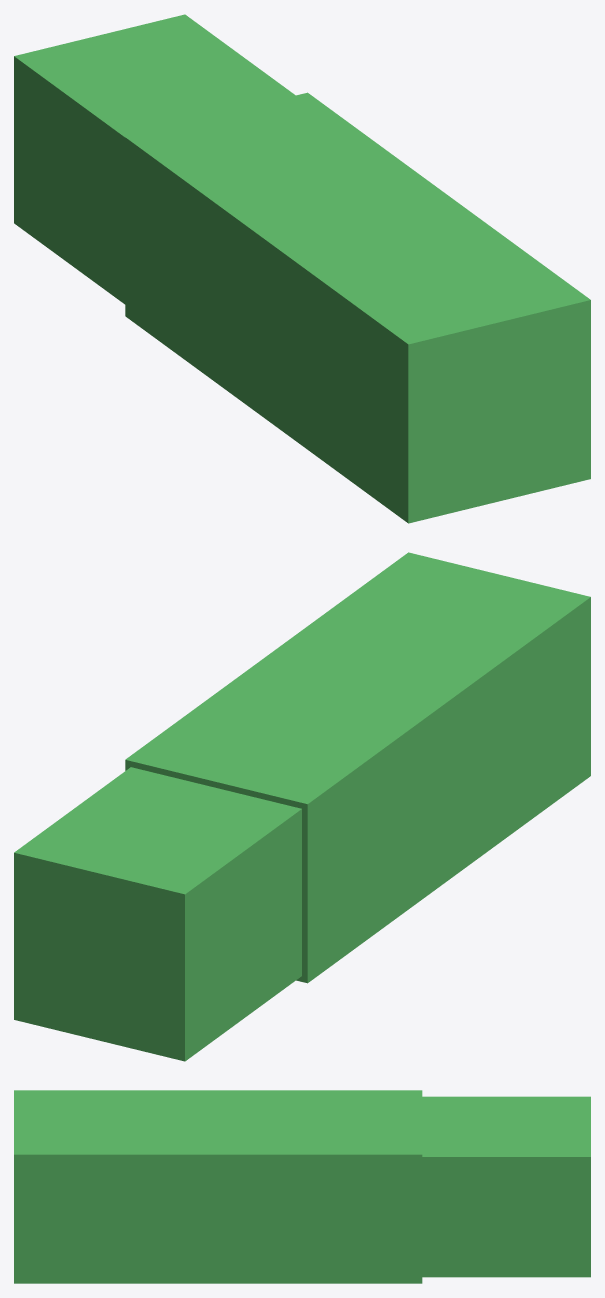
Rendered from quiver_full_collision.glb.
3 renders of one model, top to bottom at view 1: azimuth 30°, elevation 25°; view 2: azimuth 150°, elevation 25°; view 3: azimuth 270°, elevation 25°, orthographic. The views are drawn at different scales.
Parts seen in each view (by area): view 1: quiver_full-col-body, quiver_full-col-arrows; view 2: quiver_full-col-body, quiver_full-col-arrows; view 3: quiver_full-col-body, quiver_full-col-arrows.
Boxes of the visible parts, x1,y1,x2,y2 form: quiver_full-col-body: [125, 92, 590, 523]; quiver_full-col-arrows: [14, 14, 295, 304]; quiver_full-col-body: [125, 552, 590, 983]; quiver_full-col-arrows: [14, 767, 301, 1061]; quiver_full-col-body: [14, 1090, 422, 1283]; quiver_full-col-arrows: [422, 1096, 590, 1277].
Bounding box in the file's own units: 0.32 × 0.3 × 1.21.
